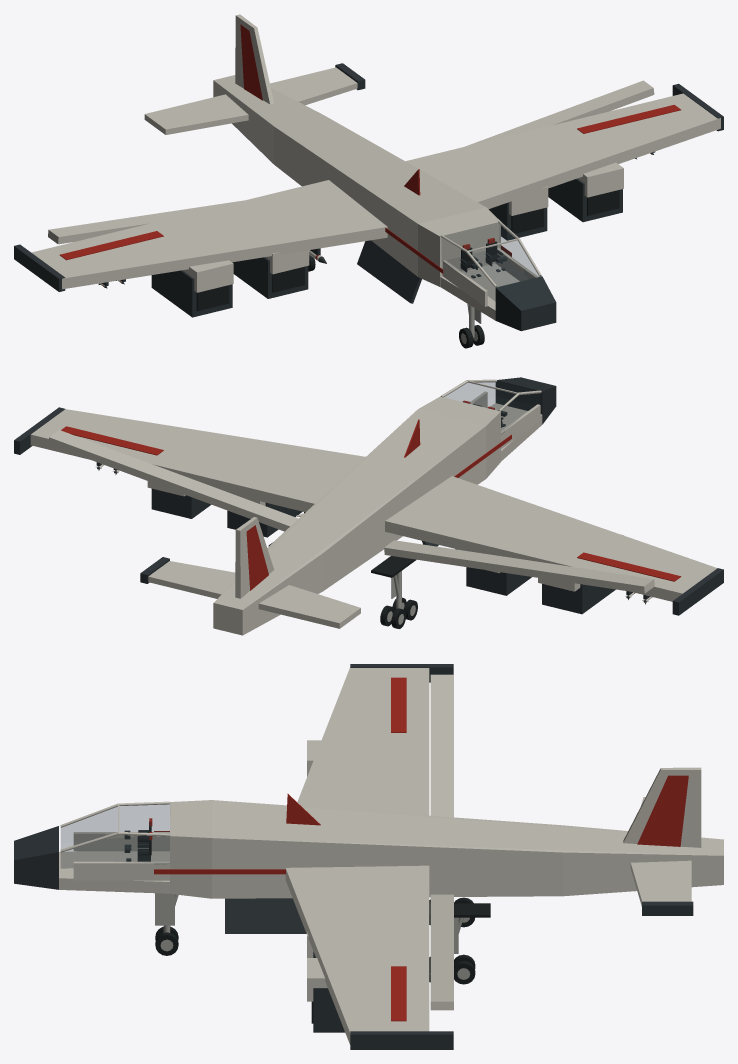
The picture shows the model from 3 angles, top to bottom: view 1: azimuth 30°, elevation 25°; view 2: azimuth 150°, elevation 25°; view 3: azimuth 270°, elevation 25°; orthographic projection. The views are drawn at different scales.
Parts seen in each view (by area): view 1: bomber-painted, bomber-glazing, flap-right-painted, flap-left-painted; view 2: bomber-painted, flap-right-painted, flap-left-painted, bomber-glazing; view 3: bomber-painted, bomber-glazing, flap-left-painted, flap-right-painted, breakaway-1-painted, landing-gear-nose-painted.
Part boxes in pixels (x1,y1,x2,y2): bomber-painted: (14,14,723,331); bomber-glazing: (442,223,539,300); flap-right-painted: (465,80,654,146); flap-left-painted: (48,200,244,244); bomber-painted: (14,377,723,635); flap-right-painted: (48,430,298,531); flap-left-painted: (384,540,654,593); bomber-glazing: (444,381,540,434); bomber-painted: (14,664,723,1049); bomber-glazing: (61,804,169,868); flap-left-painted: (430,674,453,817); flap-right-painted: (430,894,453,1010); breakaway-1-painted: (642,901,693,915); landing-gear-nose-painted: (155,893,178,932).
Size of the model in its own units: 195 by 44.83 by 158.
